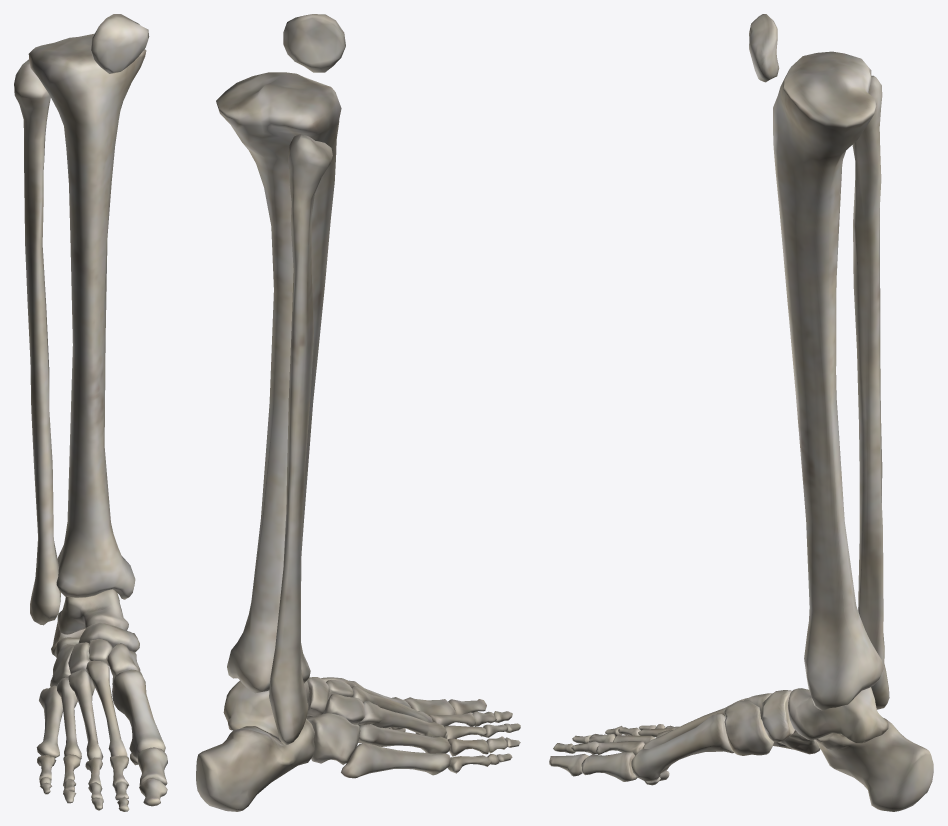
Rendered from leg-foot.glb.
3 views of the same model, side by side, from view 1: azimuth 30°, elevation 25°; view 2: azimuth 150°, elevation 25°; view 3: azimuth 270°, elevation 25° (orthographic). The views are drawn at different scales.
Visible parts, largest first — view 1: Right_tibia, Right_fibula, Right_1st_metatarsal_bone, Right_patella, Right_talus, Right_2nd_metatarsal_bone, Right_3rd_metatarsal_bone, Right_5th_metatarsal_bone, Right_4th_metatarsal_bone, Right_navicular_bone, Right_proximal_phalanx_of_1st_toe, Right_medial_cuneiform_bone (+9 smaller); view 2: Right_tibia, Right_fibula, Right_calcaneus, Right_patella, Right_5th_metatarsal_bone, Right_talus, Right_cuboid_bone, Right_4th_metatarsal_bone, Right_3rd_metatarsal_bone, Right_lateral_cuneiform_bone, Right_2nd_metatarsal_bone, Right_navicular_bone (+1 smaller); view 3: Right_tibia, Right_fibula, Right_calcaneus, Right_talus, Right_1st_metatarsal_bone, Right_medial_cuneiform_bone, Right_patella, Right_navicular_bone, Right_proximal_phalanx_of_1st_toe.
Part boxes in pixels (left/top/right/bottom): Right_tibia: left=28, top=33, right=146, bottom=599; Right_fibula: left=14, top=59, right=60, bottom=625; Right_1st_metatarsal_bone: left=112, top=669, right=165, bottom=758; Right_patella: left=90, top=14, right=149, bottom=73; Right_talus: left=57, top=589, right=128, bottom=634; Right_2nd_metatarsal_bone: left=86, top=660, right=127, bottom=756; Right_3rd_metatarsal_bone: left=68, top=669, right=103, bottom=760; Right_5th_metatarsal_bone: left=36, top=685, right=63, bottom=757; Right_4th_metatarsal_bone: left=57, top=677, right=81, bottom=758; Right_navicular_bone: left=78, top=622, right=139, bottom=652; Right_proximal_phalanx_of_1st_toe: left=137, top=747, right=167, bottom=785; Right_medial_cuneiform_bone: left=107, top=643, right=140, bottom=685; Right_tibia: left=216, top=72, right=341, bottom=693; Right_fibula: left=269, top=133, right=332, bottom=744; Right_calcaneus: left=196, top=718, right=314, bottom=811; Right_patella: left=283, top=14, right=345, bottom=72; Right_5th_metatarsal_bone: left=341, top=743, right=451, bottom=778; Right_talus: left=223, top=681, right=309, bottom=742; Right_cuboid_bone: left=307, top=713, right=360, bottom=764; Right_4th_metatarsal_bone: left=358, top=724, right=450, bottom=753; Right_3rd_metatarsal_bone: left=352, top=700, right=446, bottom=737; Right_lateral_cuneiform_bone: left=322, top=694, right=364, bottom=723; Right_2nd_metatarsal_bone: left=352, top=686, right=432, bottom=734; Right_navicular_bone: left=307, top=677, right=329, bottom=716; Right_tibia: left=773, top=51, right=883, bottom=710; Right_fibula: left=852, top=75, right=889, bottom=709; Right_calcaneus: left=816, top=718, right=933, bottom=811; Right_talus: left=788, top=687, right=888, bottom=743; Right_1st_metatarsal_bone: left=631, top=713, right=733, bottom=781; Right_medial_cuneiform_bone: left=724, top=700, right=773, bottom=755; Right_patella: left=749, top=14, right=779, bottom=82; Right_navicular_bone: left=761, top=690, right=797, bottom=742; Right_proximal_phalanx_of_1st_toe: left=581, top=752, right=637, bottom=781.
Bounding box in the file's own units: 0.129 × 0.4764 × 0.213.
Materials: 31 (31 with a texture image).
